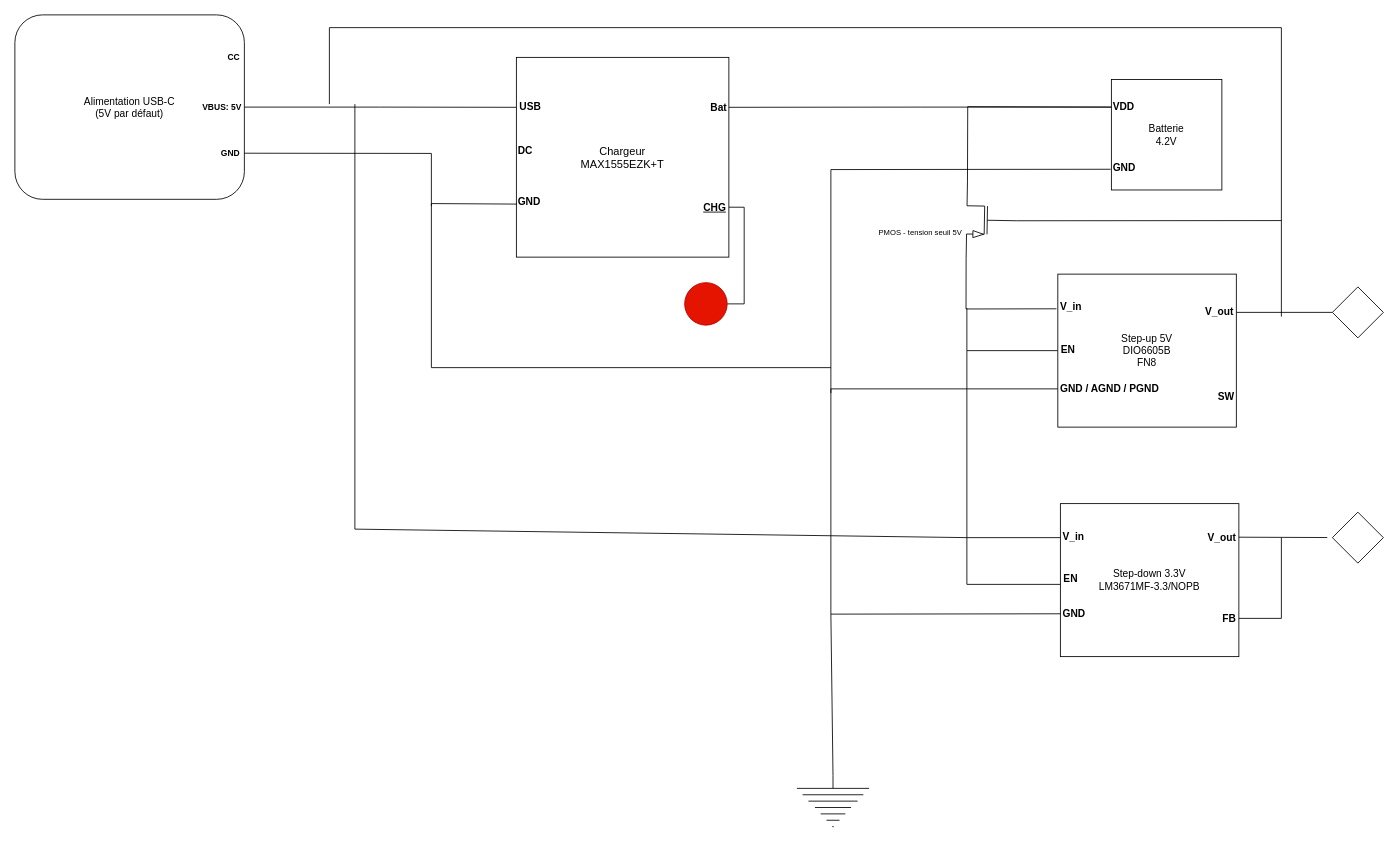
Image size: 1398x842. Some labels were removed from this diagram. The centre of each missing label's shape, as x and y in pixels:
"3.3V" goes at [1357,537].
"5V" goes at [1357,312].
"Charging LED" goes at [705,303].
